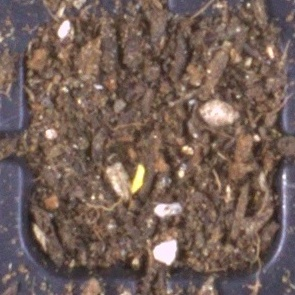chilli seed: (129, 163, 146, 194)
